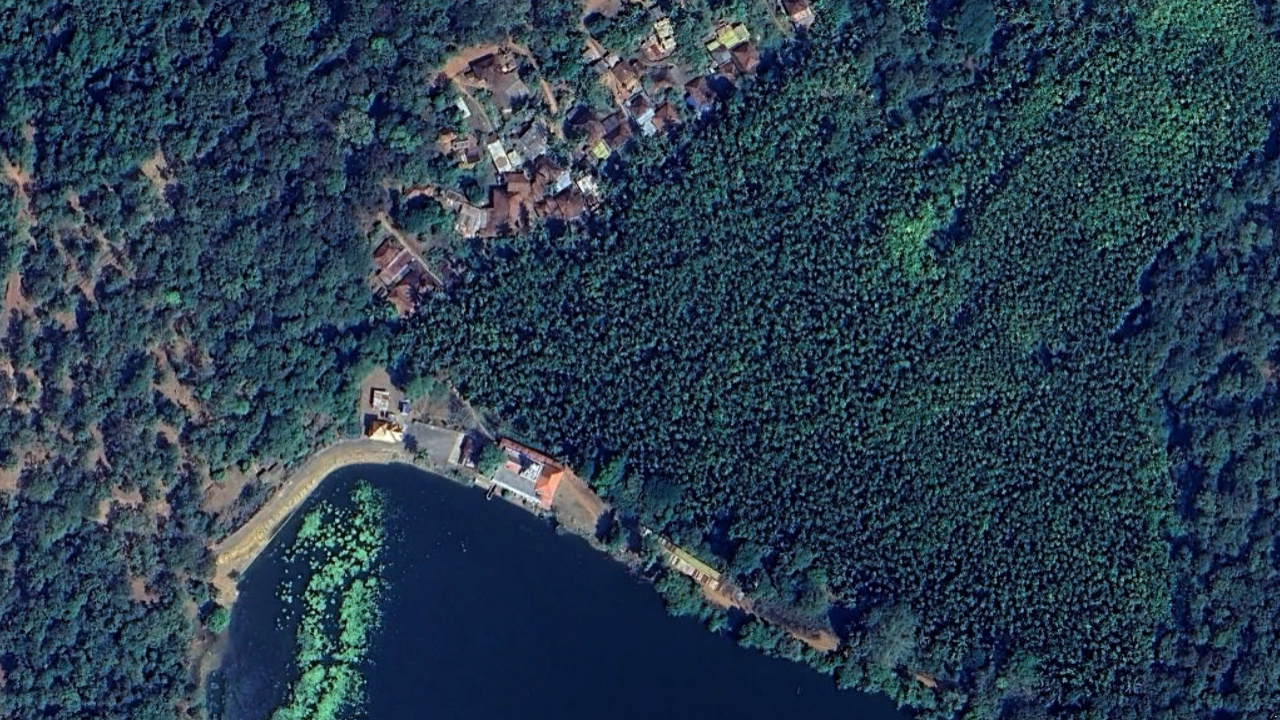arecanut: (403, 7, 1280, 699)
